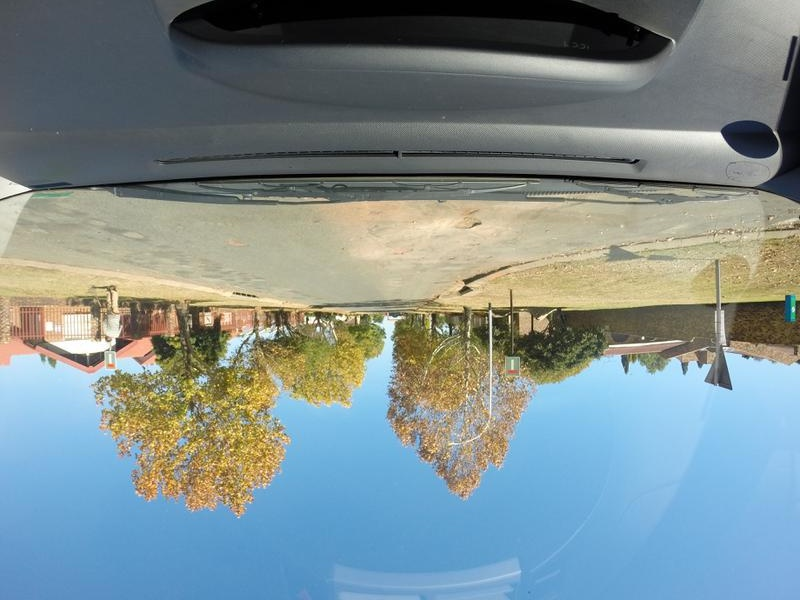pothole: (455, 210, 480, 239), (379, 243, 416, 262)
